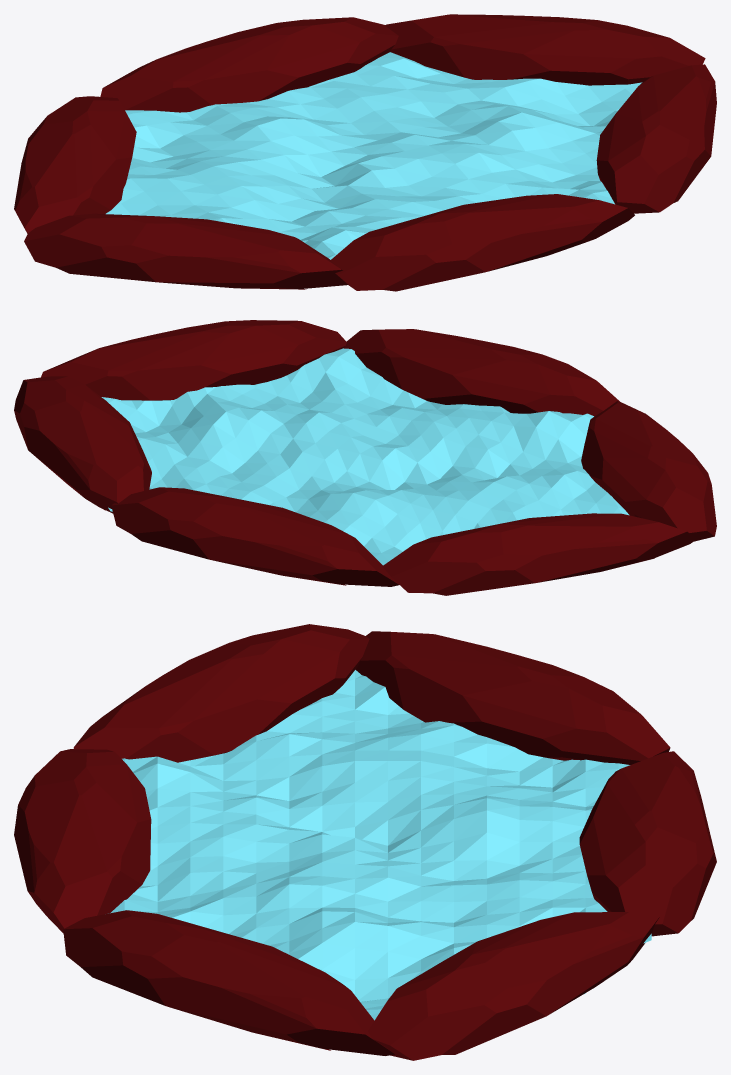
The model's file is icepool1.fbx.
3 renders of one model, top to bottom at view 1: azimuth 30°, elevation 25°; view 2: azimuth 150°, elevation 25°; view 3: azimuth 270°, elevation 25°, orthographic. The views are drawn at different scales.
Visible parts, largest first — view 1: Icosphere.002, Plane; view 2: Icosphere.002, Plane; view 3: Icosphere.002, Plane.
Boxes of the visible parts, x1=… form: Icosphere.002: x1=14, y1=14, x2=716, y2=291; Plane: x1=106, y1=52, x2=642, y2=259; Icosphere.002: x1=14, y1=320, x2=716, y2=595; Plane: x1=101, y1=348, x2=629, y2=565; Icosphere.002: x1=14, y1=624, x2=716, y2=1060; Plane: x1=108, y1=670, x2=651, y2=1020.
Size of the model in its own units: 4798 by 360 by 3426.
